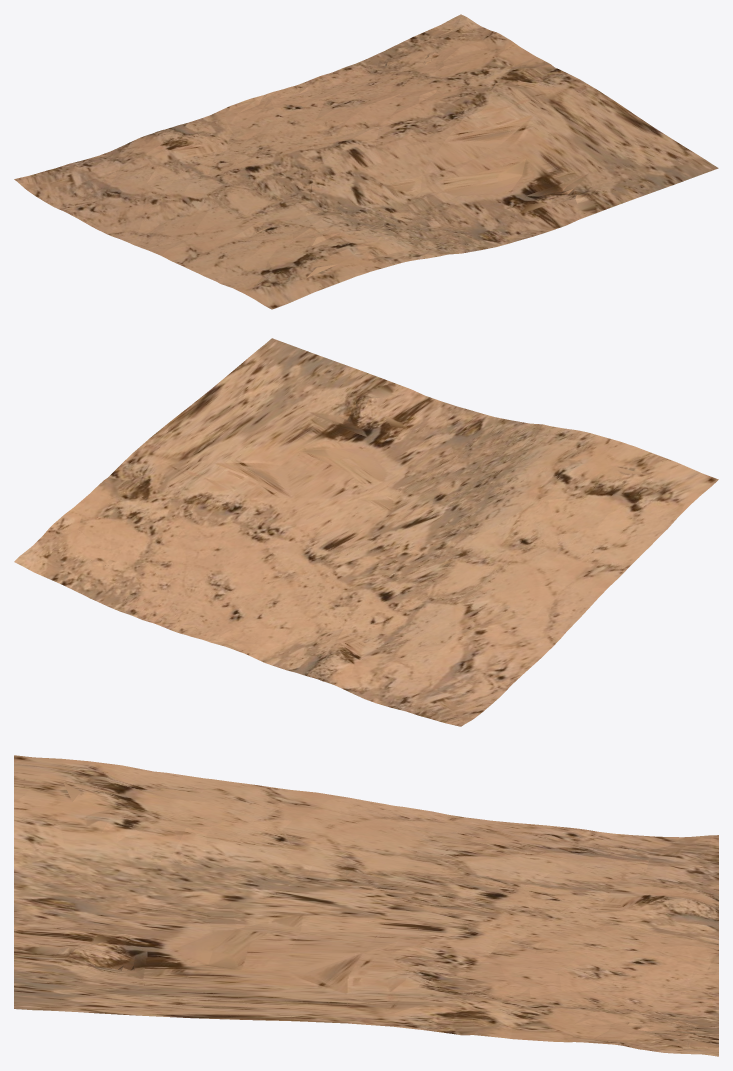
3 renders of one model, top to bottom at view 1: azimuth 30°, elevation 25°; view 2: azimuth 150°, elevation 25°; view 3: azimuth 270°, elevation 25°, orthographic. The views are drawn at different scales.
Size of the model in its own units: 8.36 by 1.65 by 8.36.
Materials: 2 (2 with a texture image).
